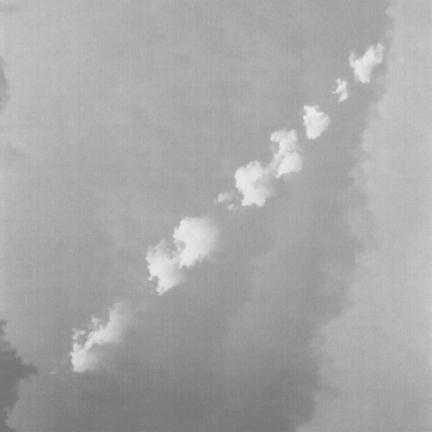flukeprints: (70, 302, 128, 372), (173, 217, 219, 267), (146, 240, 183, 294), (267, 129, 302, 177), (235, 162, 271, 206), (349, 43, 383, 83), (303, 105, 329, 138), (333, 78, 348, 101), (217, 191, 235, 201), (227, 203, 235, 209)
